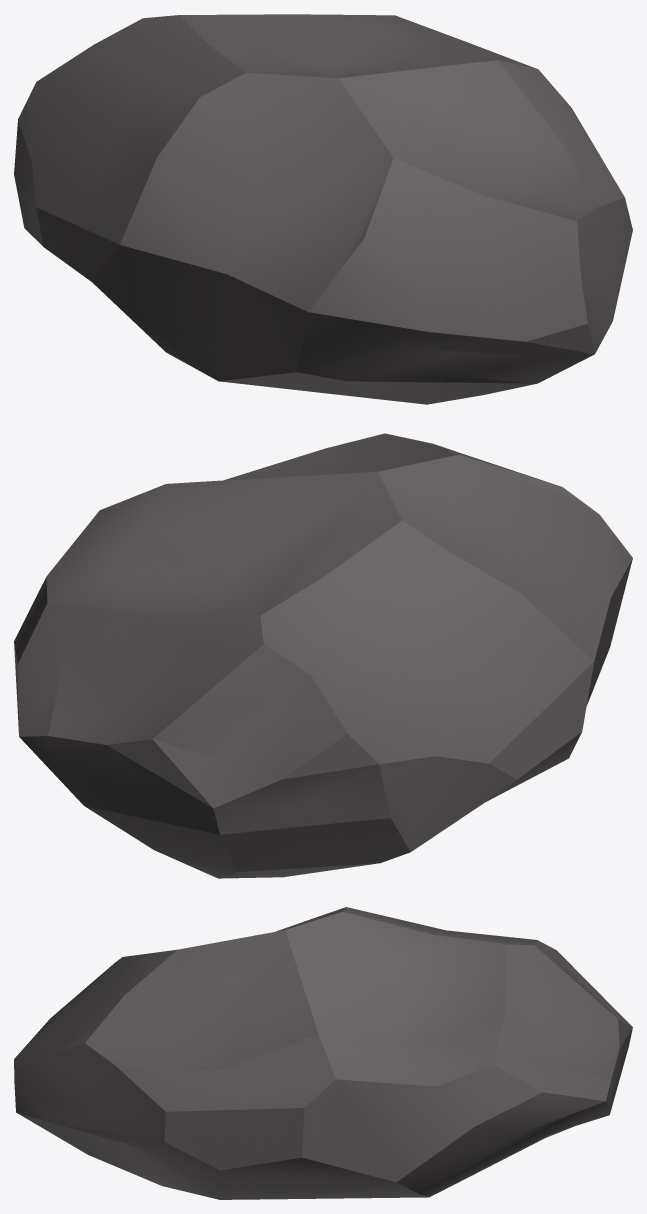
The model's file is Rocks04.fbx.
3 views of the same model, one above another, from view 1: azimuth 30°, elevation 25°; view 2: azimuth 150°, elevation 25°; view 3: azimuth 270°, elevation 25° (orthographic). The views are drawn at different scales.
Parts seen in each view (by area): view 1: Rock.004; view 2: Rock.004; view 3: Rock.004.
Boxes of the visible parts, x1,y1,x2,y2 form: Rock.004: [14, 14, 632, 404]; Rock.004: [14, 433, 632, 878]; Rock.004: [14, 907, 632, 1199].
Size of the model in its own units: 1.72 by 0.9818 by 2.38.
